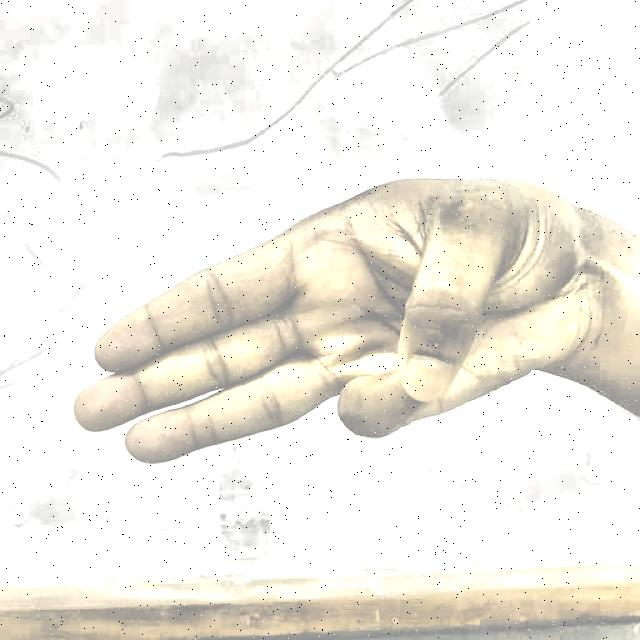Ma: (41, 163, 612, 509)
